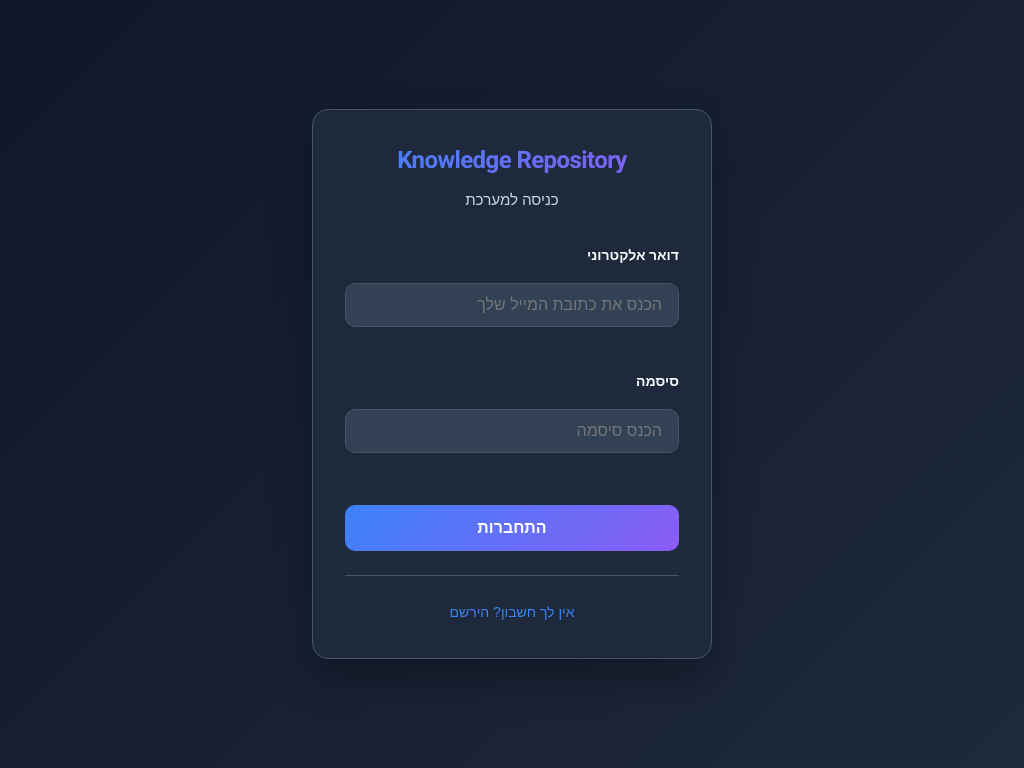
Login Page › Rendering › can switch back to login mode
Click the button "אין לך חשבון? הירשם": {"x": 512, "y": 612} [450,604,574,620]
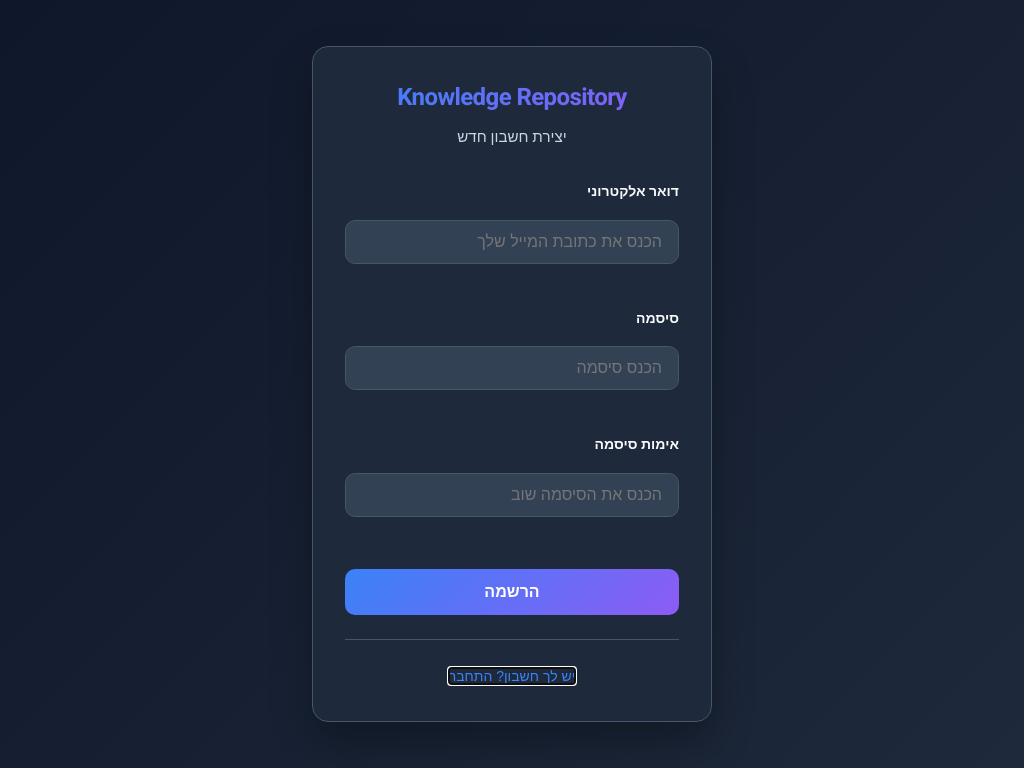
Click the button "יש לך חשבון? התחבר": {"x": 512, "y": 676} [449,668,575,684]
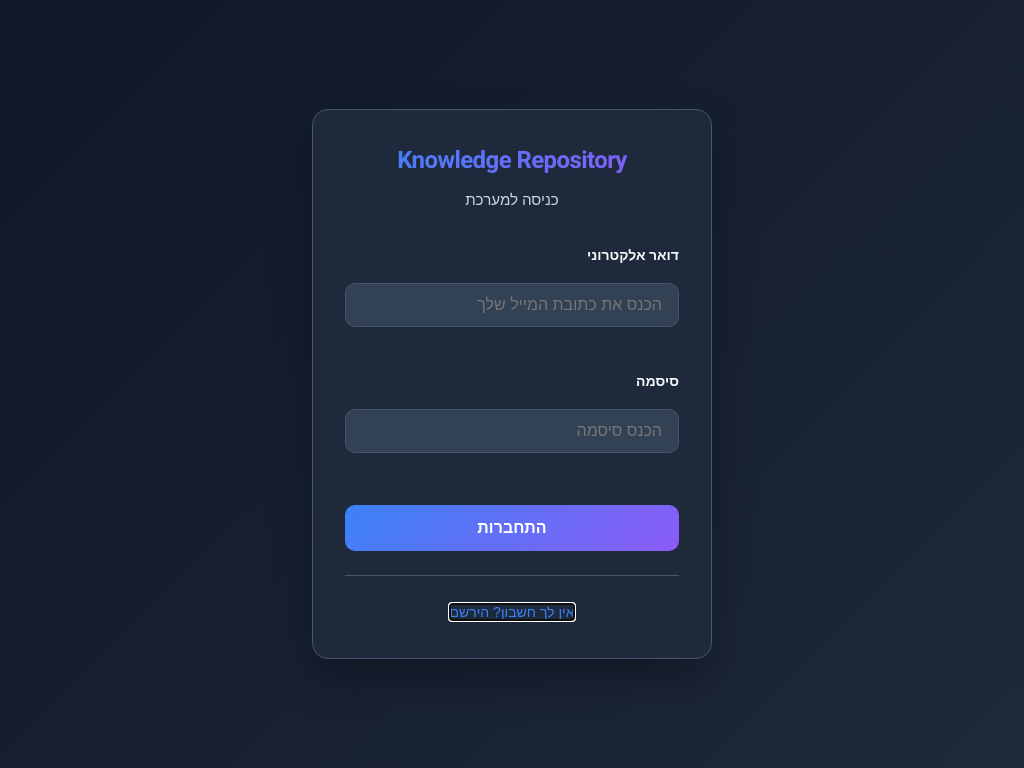
Result: the label labelled "אימות סיסמה" is gone
Result: the button "התחברות" is shown at [345,505,679,551]
